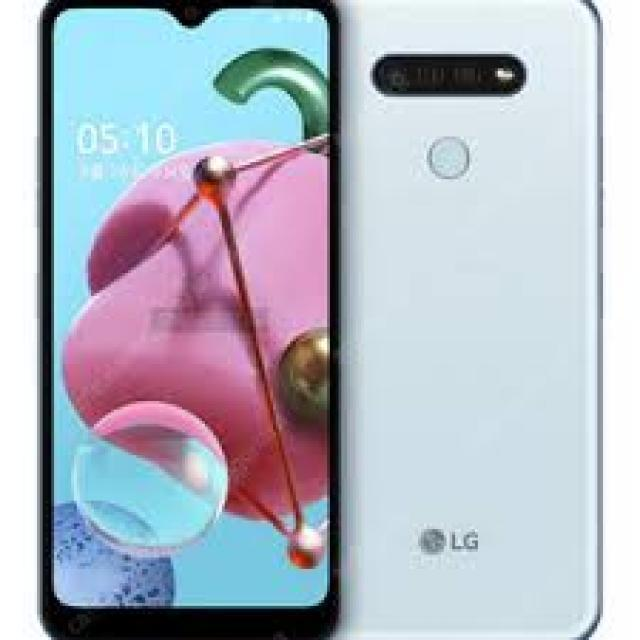Mobile: (28, 0, 350, 640), (361, 4, 631, 640)
